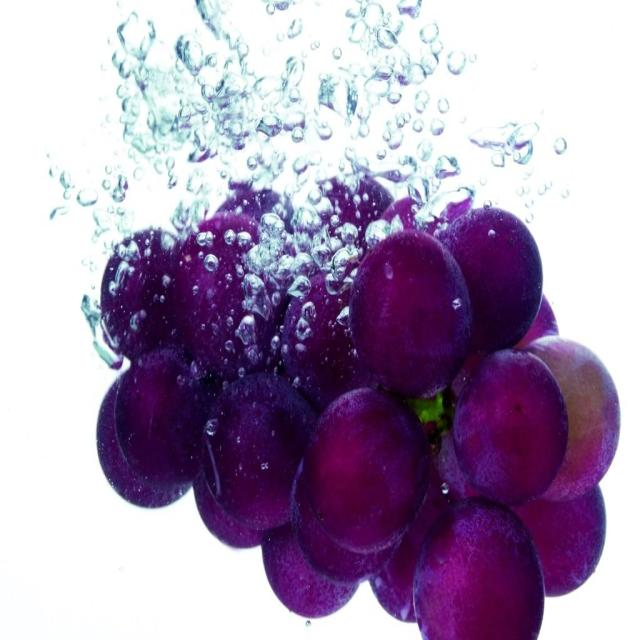grape: (101, 418, 450, 540), (297, 362, 448, 570), (402, 478, 562, 640), (149, 217, 326, 360), (487, 450, 628, 622), (200, 378, 330, 558), (275, 478, 427, 627), (515, 330, 636, 510), (424, 353, 574, 495), (75, 336, 220, 482), (355, 233, 481, 395), (438, 178, 548, 355), (220, 125, 336, 278), (306, 198, 419, 344), (96, 227, 200, 368)
